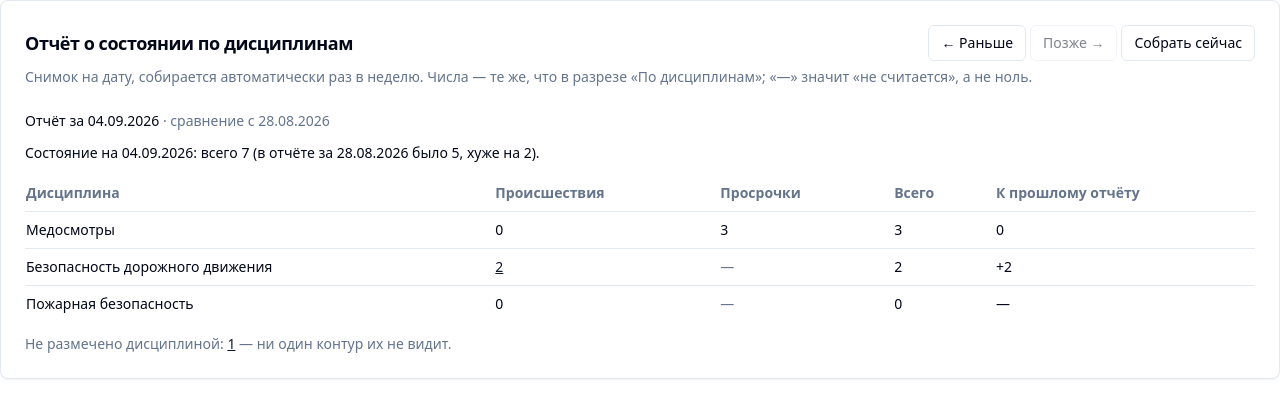
Test case: DisciplineReportCard (Доп. №1 разд. 57.4, срез-50) › листает к прошлому отчёту и обратно без полей ввода
Check: the text "Отчёт за 04.09.2026" is shown, box [25,111,159,130]
Click the button "← Раньше".
click(977, 43)  # box [928,25,1026,61]
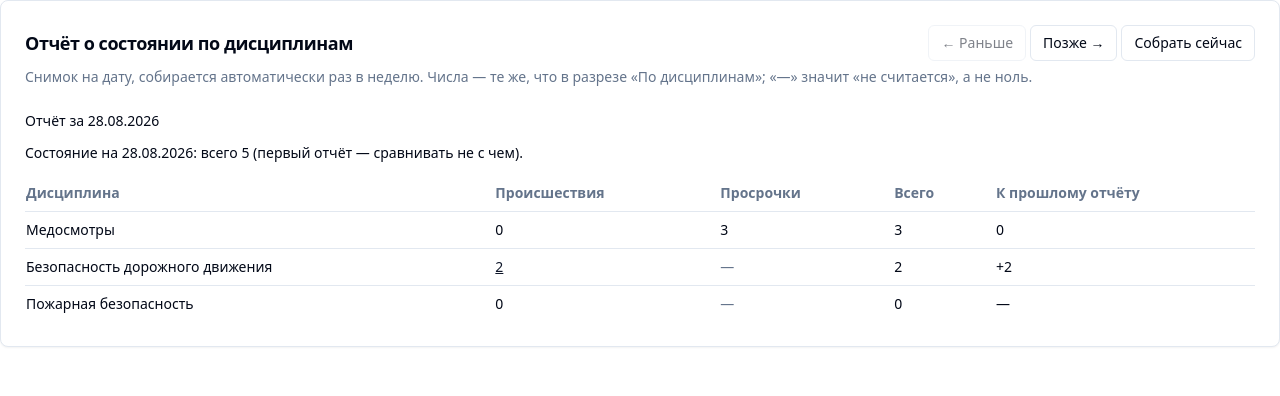
Check: the text "Отчёт за 28.08.2026" is shown, box [25,111,159,130]
Check: the text with test id "discipline-report-summary" shows "сравнивать не с чем", box [25,143,523,162]
Check: the text "сравнение с" is gone
Click the button "Позже →".
click(1074, 43)  # box [1030,25,1117,61]
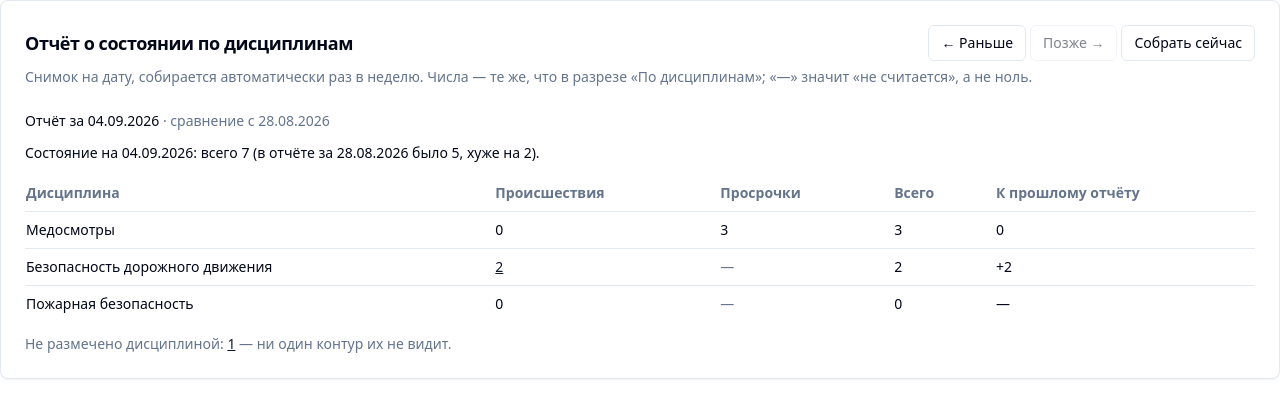
Check: the text "Отчёт за 04.09.2026" is shown, box [25,111,159,130]
